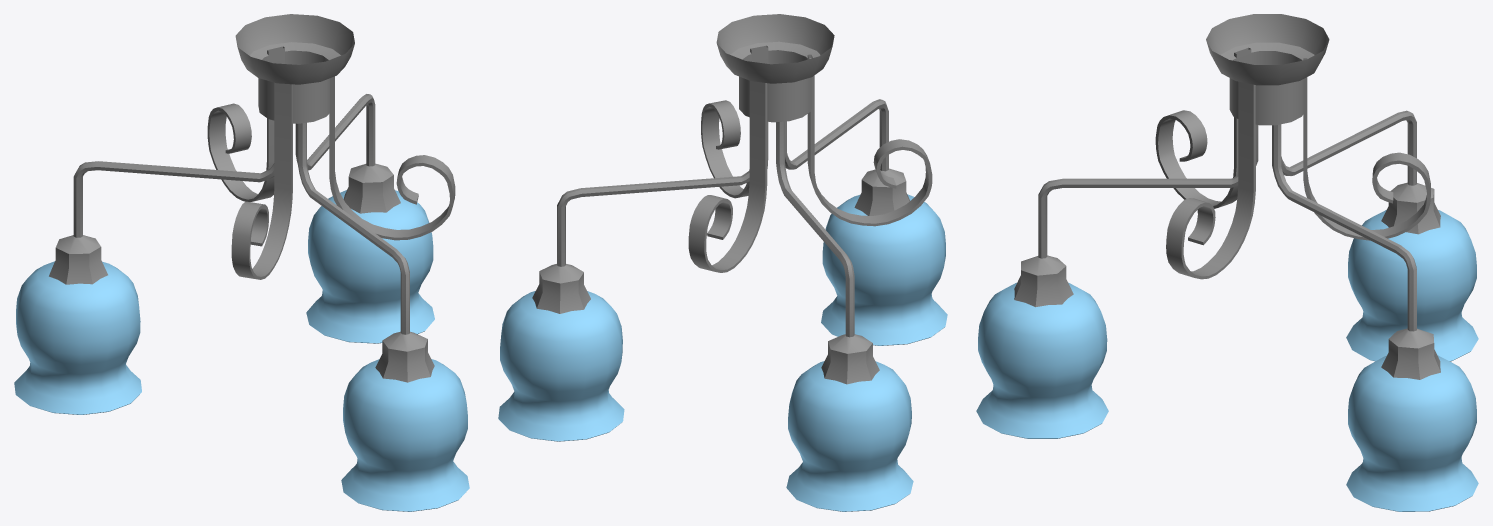
Rendered from Lamp2.fbx.
3 renders of one model, left to right at view 1: azimuth 30°, elevation 25°; view 2: azimuth 150°, elevation 25°; view 3: azimuth 270°, elevation 25°, orthographic. The views are drawn at different scales.
Visible parts, largest first — view 1: Lamp_02; view 2: Lamp_02; view 3: Lamp_02.
Boxes of the visible parts, x1=… form: Lamp_02: x1=14, y1=14, x2=469, y2=511; Lamp_02: x1=498, y1=14, x2=947, y2=511; Lamp_02: x1=976, y1=14, x2=1478, y2=511.
Size of the model in its own units: 93.22 by 98.63 by 80.65.
